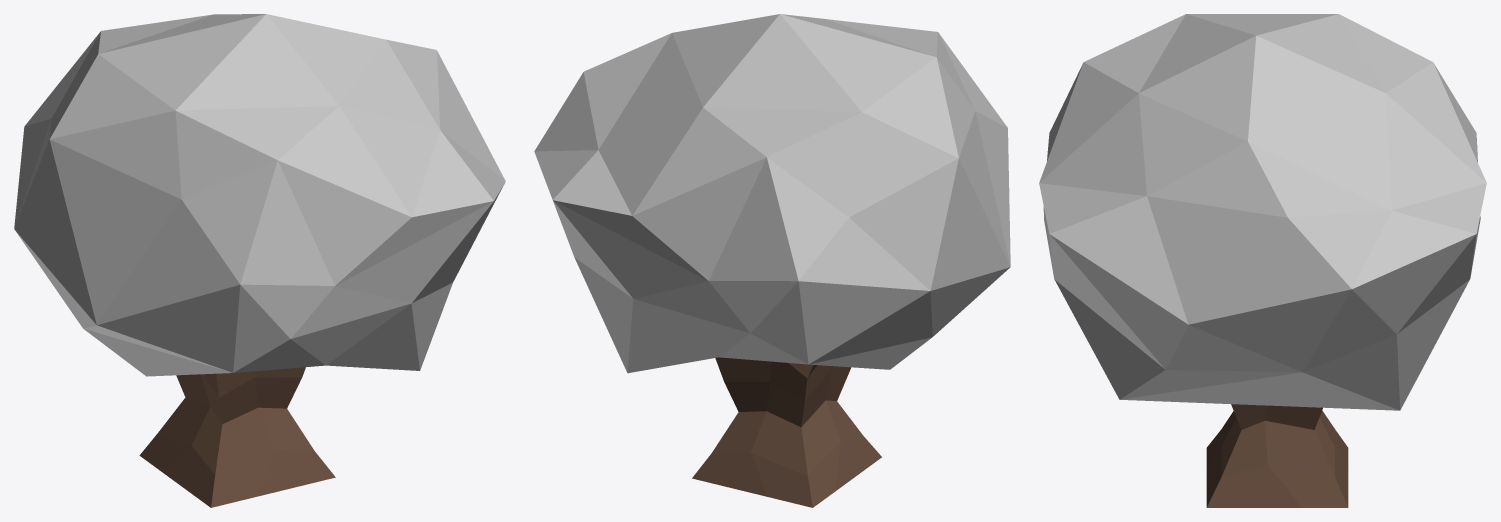
The model's file is Tree_33_White.fbx.
The picture shows the model from 3 angles, left to right: view 1: azimuth 30°, elevation 25°; view 2: azimuth 150°, elevation 25°; view 3: azimuth 270°, elevation 25°; orthographic projection. The views are drawn at different scales.
Parts seen in each view (by area): view 1: Tree_33_White_Part_1, Tree_33_White_Part_2; view 2: Tree_33_White_Part_1, Tree_33_White_Part_2; view 3: Tree_33_White_Part_1, Tree_33_White_Part_2.
Part boxes in pixels (<box>): Tree_33_White_Part_1: <box>14,14,505,376</box>; Tree_33_White_Part_2: <box>139,367,335,507</box>; Tree_33_White_Part_1: <box>534,14,1010,373</box>; Tree_33_White_Part_2: <box>692,357,881,507</box>; Tree_33_White_Part_1: <box>1039,14,1486,410</box>; Tree_33_White_Part_2: <box>1206,404,1348,507</box>.
Bounding box in the file's own units: 762 × 812 × 731.
